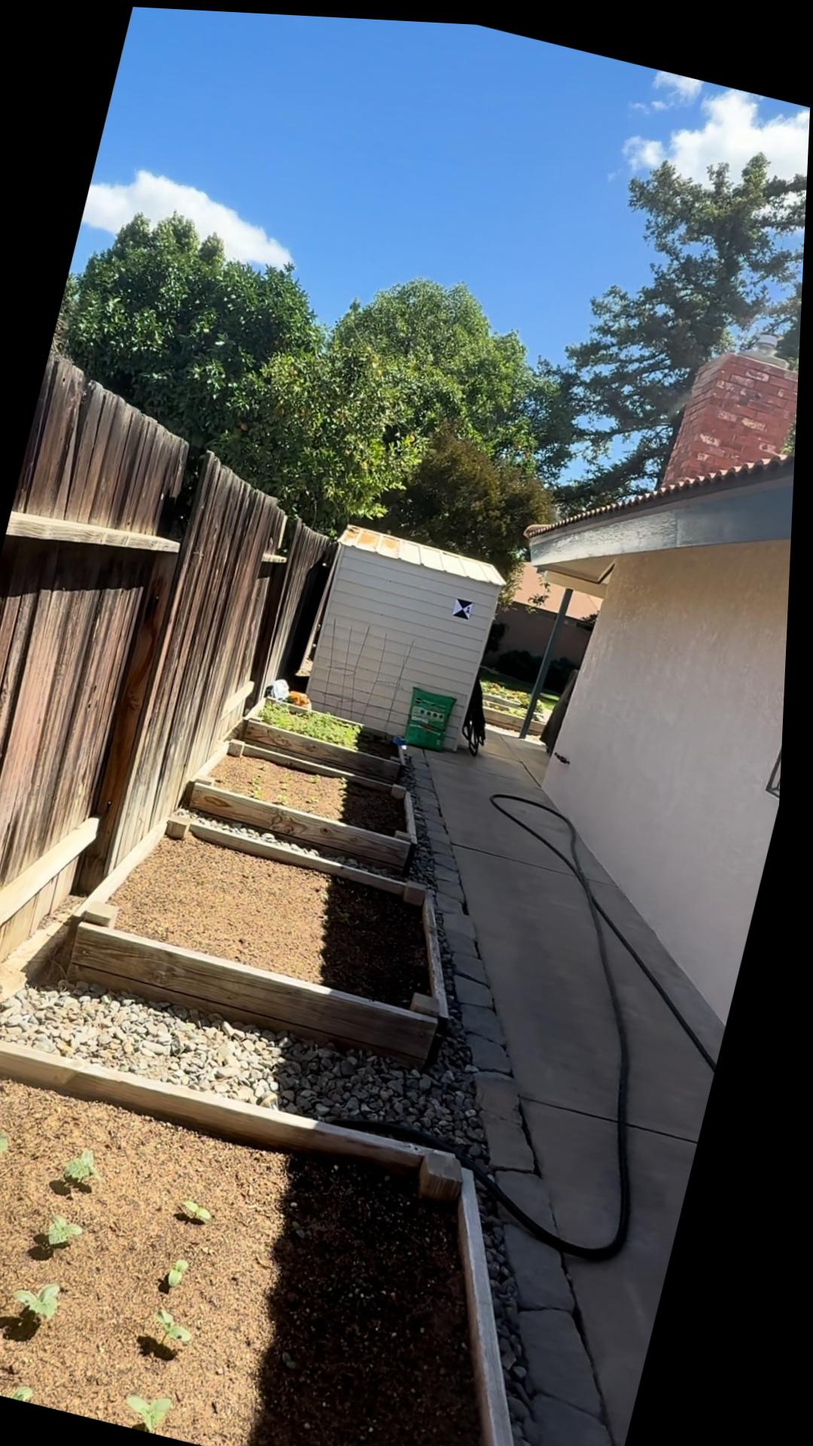target1: (452, 596, 477, 623)
